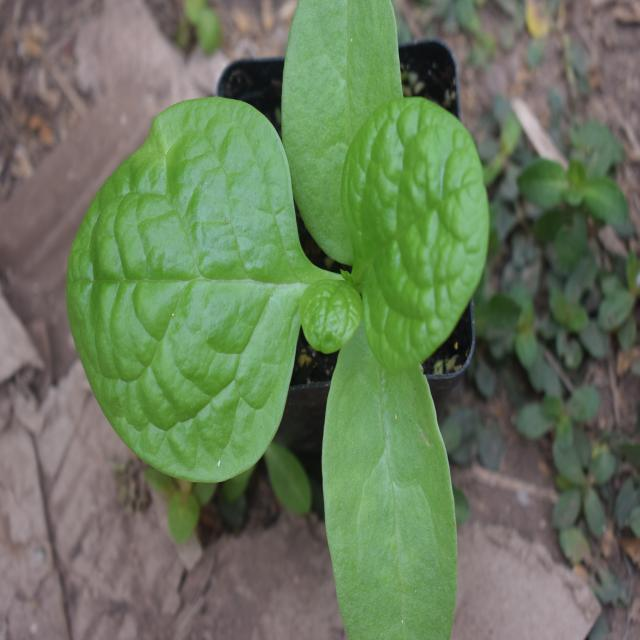Ceylon spinach: (54, 0, 489, 612)
